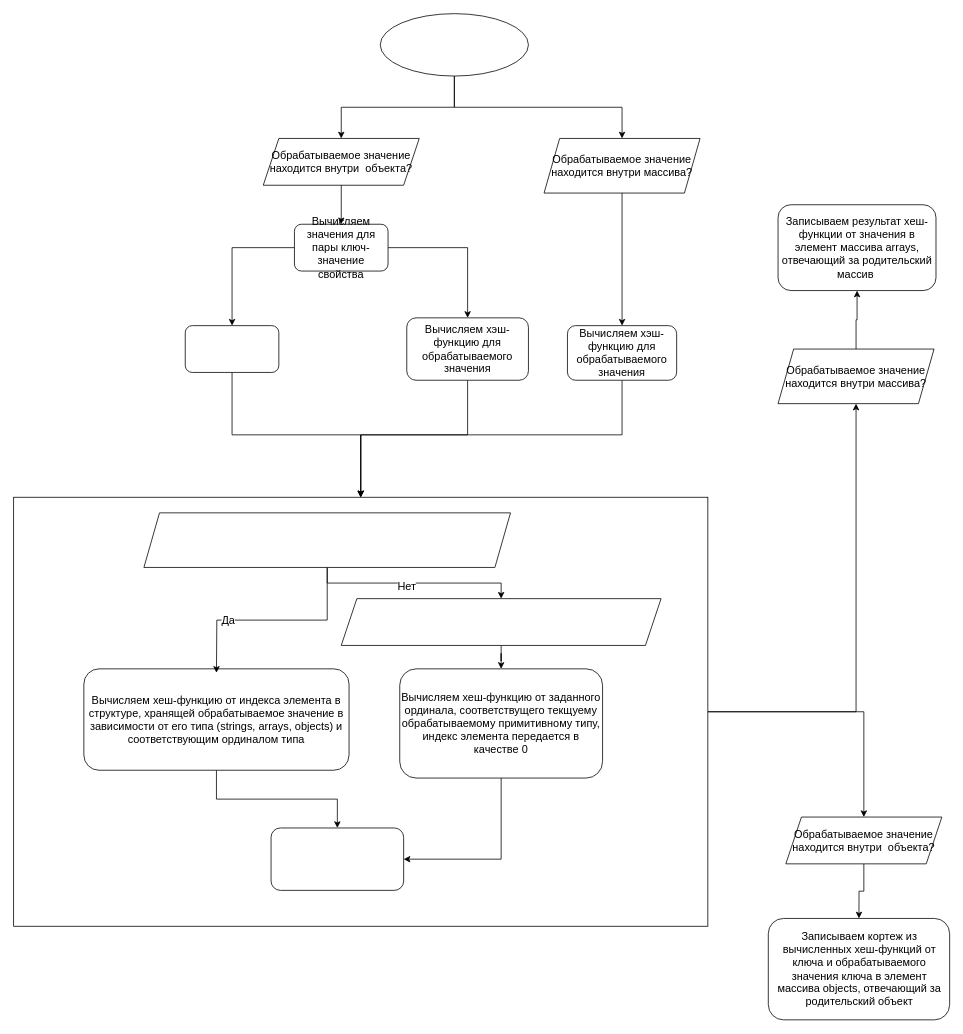
The diagram is 963 pixels wide and 1034 high, and some of its shapes have lost their labels. The box of each missing label's shape, as (x1, y1, x2, y2) in pixels:
Вычисленное значение на основе хеш-функции: (270, 827, 404, 890)
Вычисляем хэш-функцию для ключа: (184, 325, 279, 372)
Данные, обрабатываемые в данный момент: (379, 13, 528, 76)
Обрабатываемое значение имеет примитивный тип?: (340, 598, 661, 645)
Обрабатываемое значение имеет тип строки, объекта или массива?: (143, 512, 511, 567)
